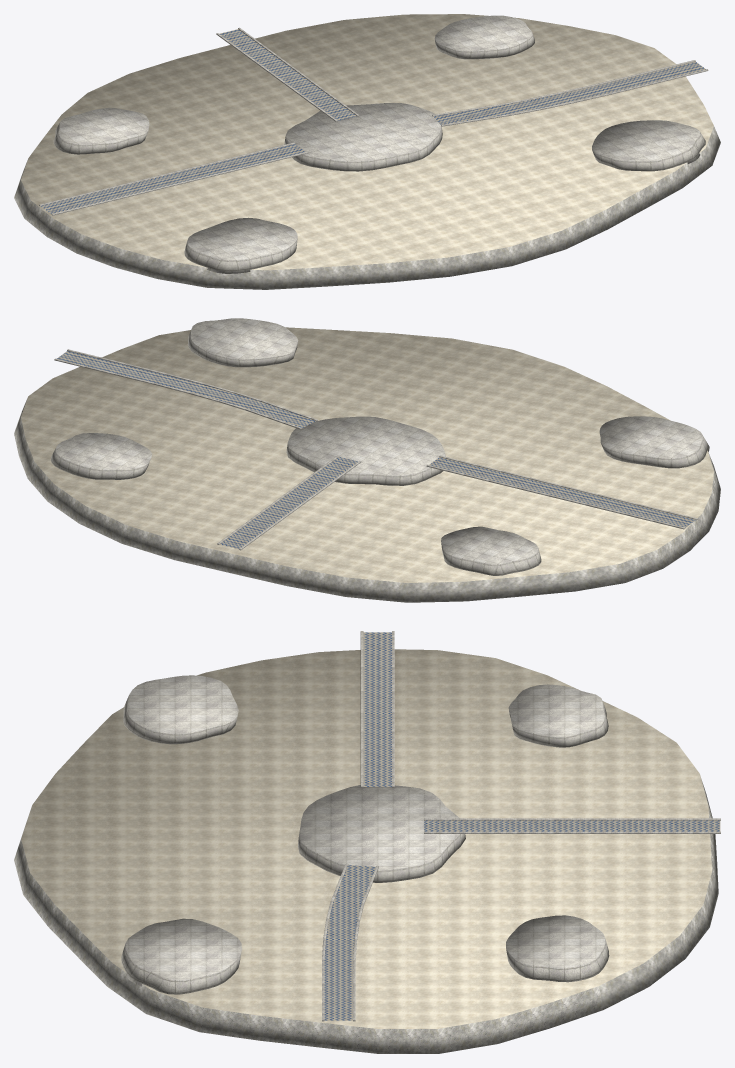
Rendered from 11_ZatopionaAtlantyda_teren.glb.
3 renders of one model, top to bottom at view 1: azimuth 30°, elevation 25°; view 2: azimuth 150°, elevation 25°; view 3: azimuth 270°, elevation 25°, orthographic. The views are drawn at different scales.
Visible parts, largest first — view 1: lagoon_floor, ruin0, ruin3, ruin4, ruin1, ruin2, path_2.003, path_1.005, path_0.010; view 2: lagoon_floor, ruin0, ruin3, ruin4, ruin1, ruin2, path_2.003, path_1.005, path_0.010; view 3: lagoon_floor, ruin0, ruin4, ruin3, ruin2, ruin1, path_2.003, path_1.005, path_0.010.
Part boxes in pixels (bbox=[...]): lagoon_floor: bbox=[14, 14, 720, 289]; ruin0: bbox=[284, 103, 442, 171]; ruin3: bbox=[184, 217, 297, 273]; ruin4: bbox=[592, 120, 705, 171]; ruin1: bbox=[53, 108, 149, 154]; ruin2: bbox=[434, 15, 534, 59]; path_2.003: bbox=[433, 61, 705, 124]; path_1.005: bbox=[41, 144, 305, 213]; path_0.010: bbox=[219, 29, 356, 120]; lagoon_floor: bbox=[14, 327, 720, 602]; ruin0: bbox=[286, 416, 445, 485]; ruin3: bbox=[599, 416, 709, 468]; ruin4: bbox=[187, 318, 298, 367]; ruin1: bbox=[441, 526, 541, 575]; ruin2: bbox=[50, 433, 152, 479]; path_2.003: bbox=[57, 351, 315, 427]; path_1.005: bbox=[429, 457, 695, 527]; path_0.010: bbox=[220, 457, 357, 549]; lagoon_floor: bbox=[14, 649, 718, 1053]; ruin0: bbox=[298, 785, 465, 882]; ruin4: bbox=[121, 918, 241, 994]; ruin3: bbox=[123, 675, 238, 744]; ruin2: bbox=[506, 915, 609, 982]; ruin1: bbox=[508, 684, 608, 747]; path_2.003: bbox=[324, 865, 375, 1020]; path_1.005: bbox=[363, 632, 391, 786]; path_0.010: bbox=[424, 820, 720, 831].
Size of what is drawn, in the model's own units: 236 by 9.83 by 182.
5 materials, 5 textured.
